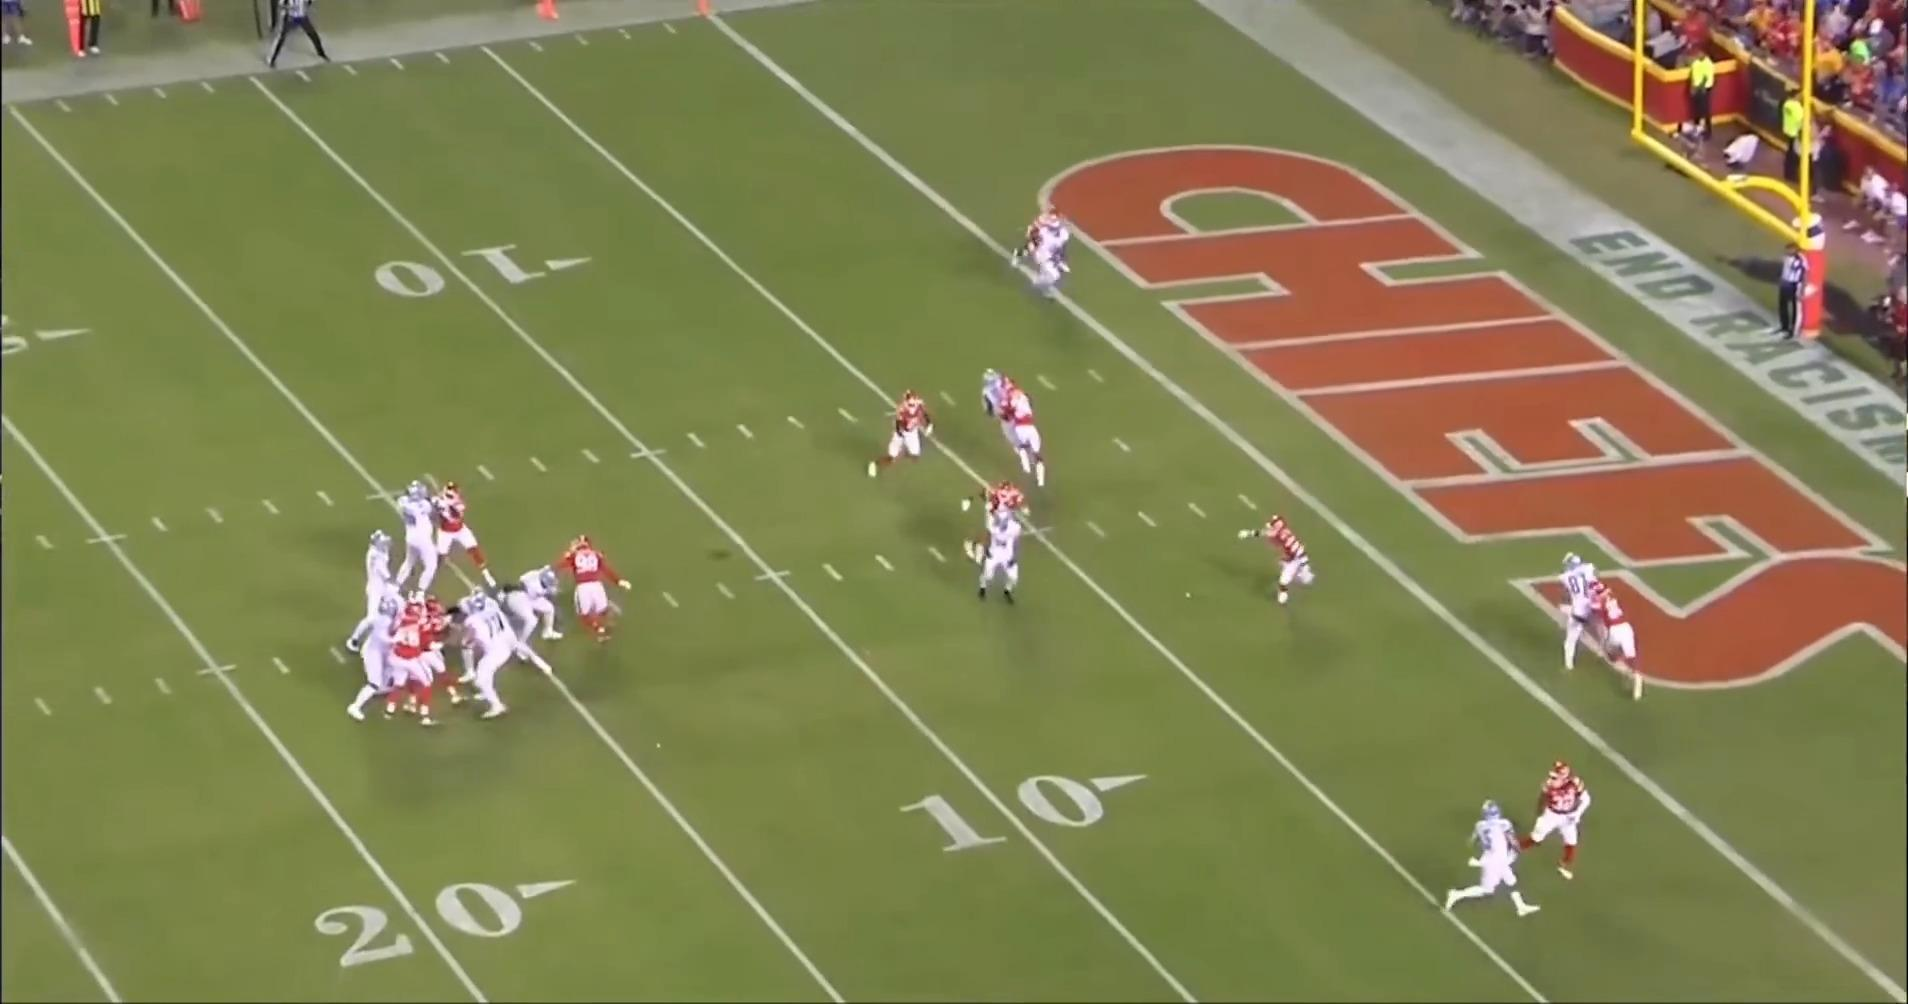defense: (374, 598, 458, 729), (1519, 759, 1595, 887), (555, 535, 625, 652), (435, 474, 503, 590), (1253, 510, 1326, 608), (859, 387, 935, 482), (991, 375, 1050, 491), (1580, 580, 1638, 699), (415, 599, 469, 701), (1011, 209, 1059, 271), (973, 476, 1032, 523)
oline: (454, 590, 562, 687), (458, 590, 525, 725), (344, 592, 405, 725), (387, 476, 447, 608), (507, 555, 567, 652)
qb: (344, 527, 408, 656)
ref: (261, 4, 339, 74), (1769, 235, 1816, 347)
skill: (1437, 800, 1536, 922), (1547, 550, 1609, 676), (963, 508, 1021, 614), (1026, 219, 1071, 318), (974, 356, 1013, 441)
